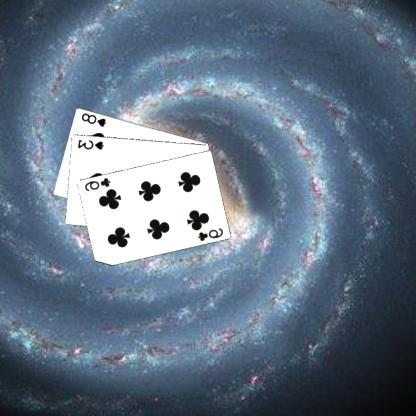3S: (77, 136, 107, 150)
6C: (83, 175, 113, 192), (196, 225, 226, 242)
8S: (81, 110, 109, 127)
